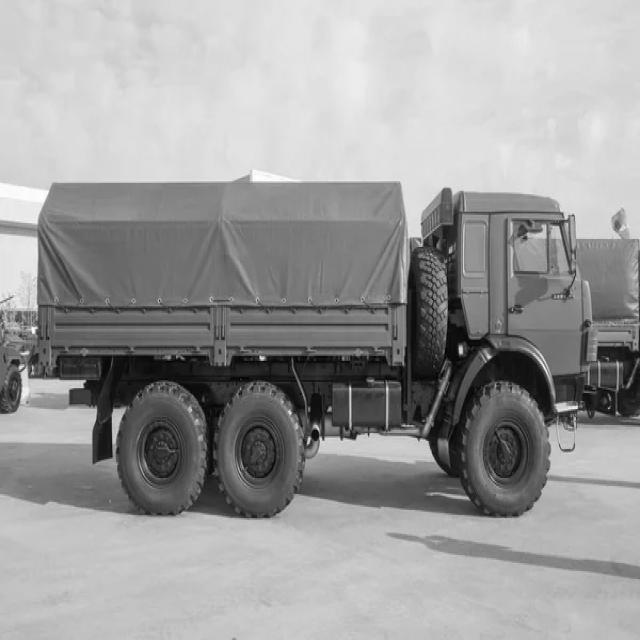Truck: (39, 183, 596, 517)
